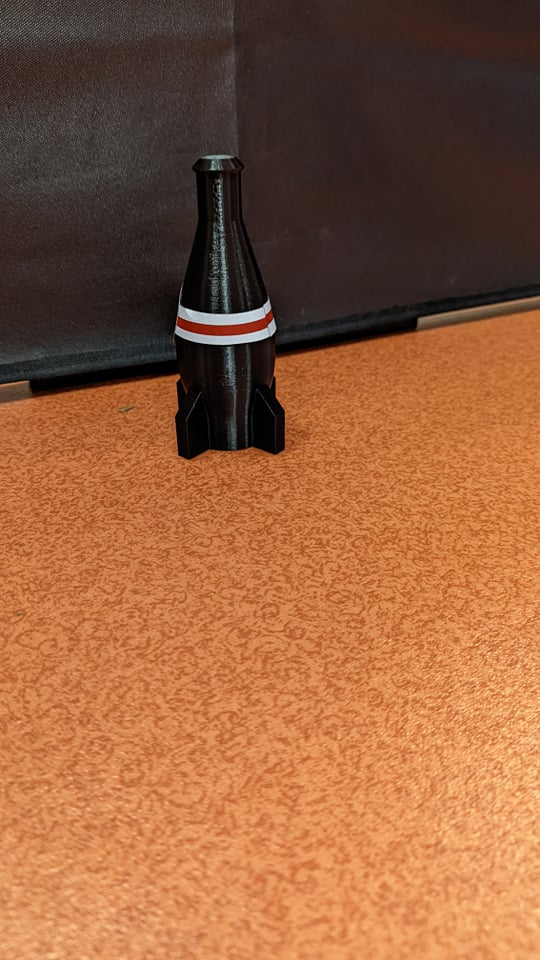bottle: (157, 148, 304, 471)
